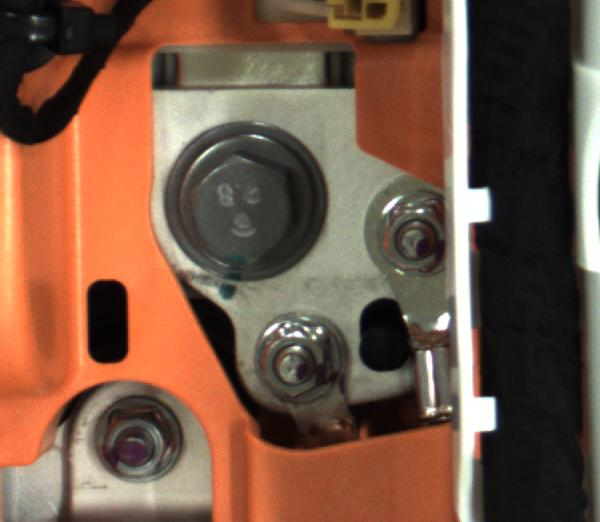nut_b: (159, 123, 324, 271)
screw_s: (93, 398, 190, 485), (376, 195, 462, 286), (255, 310, 334, 400)
